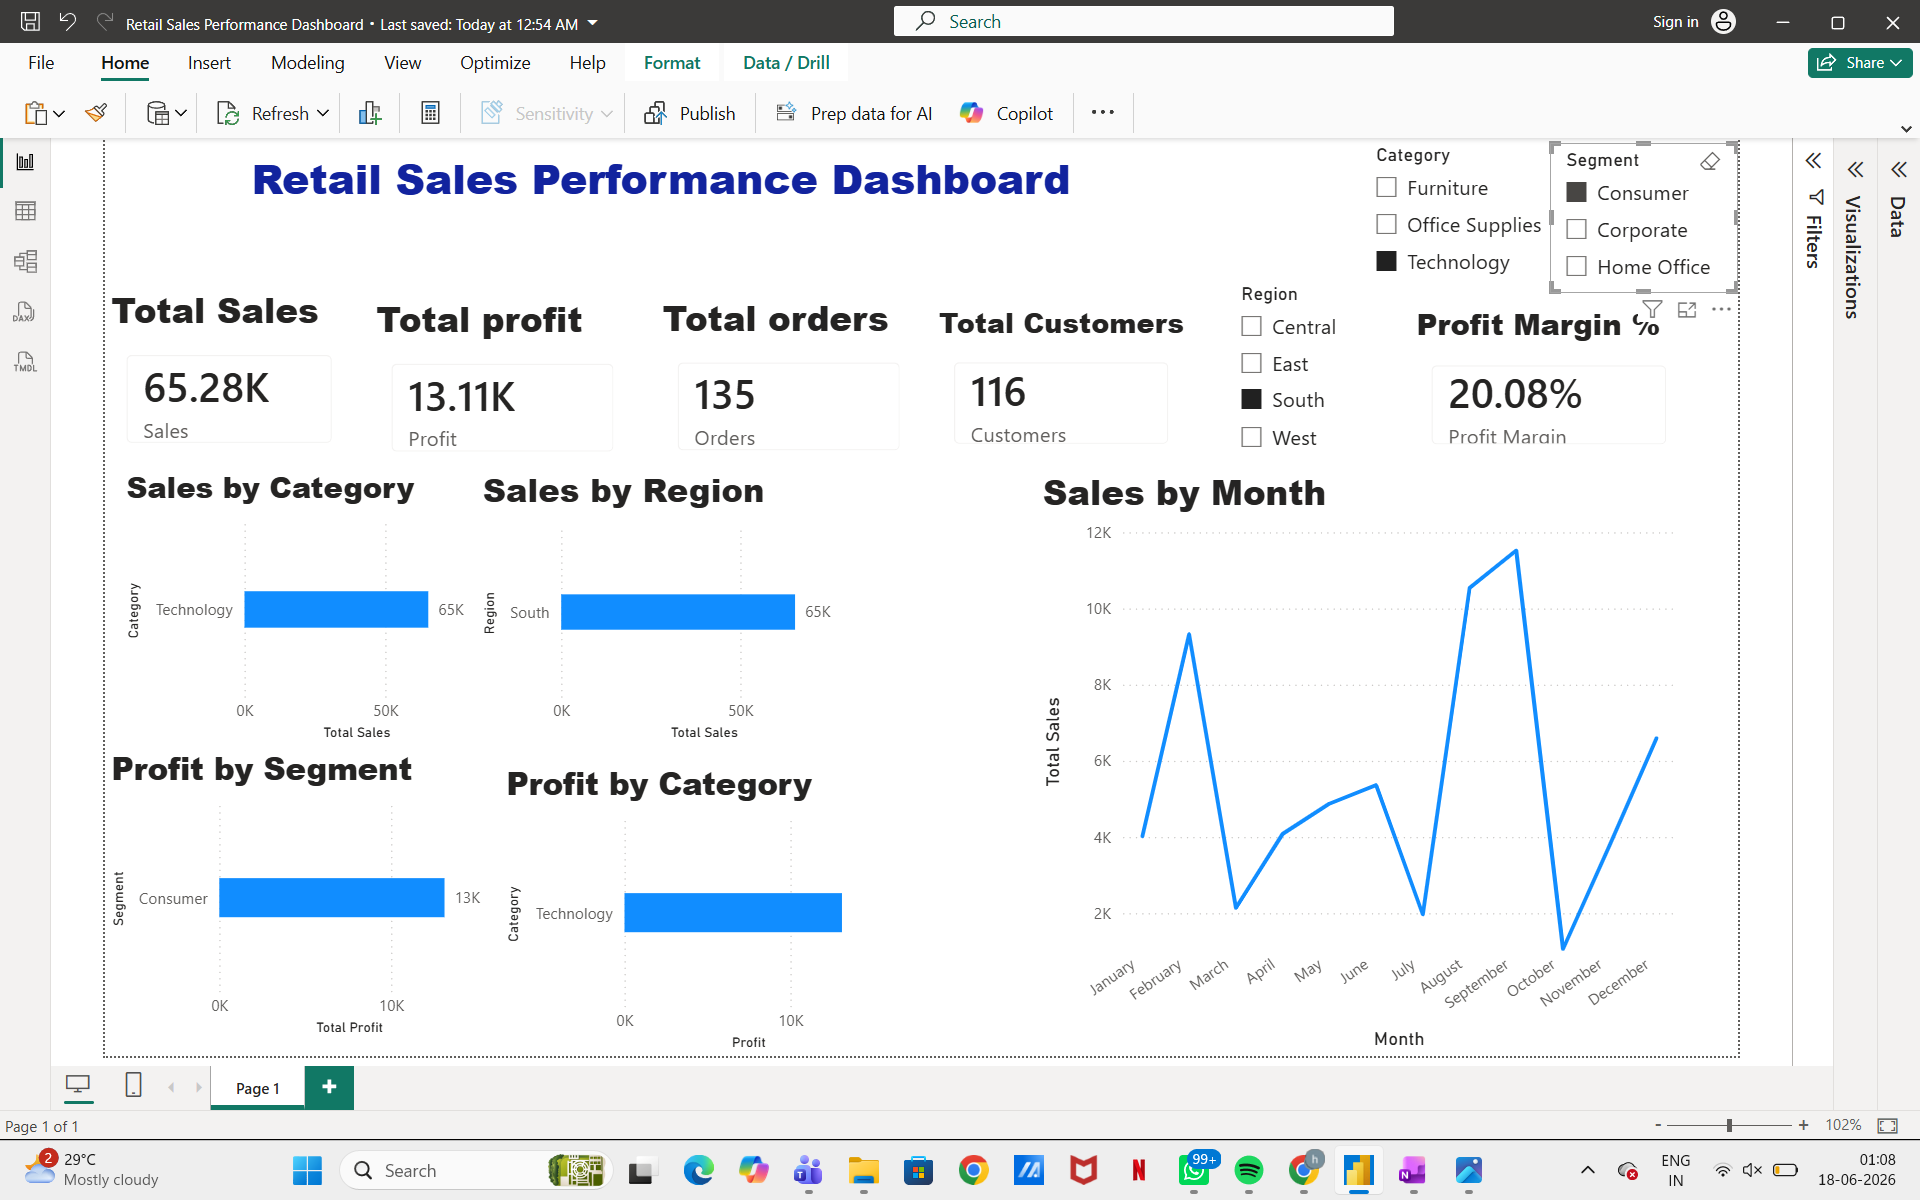

The dashboard page shown, as its layout file describes it:
{"tool":"powerbi","page":{"name":"Page 1","canvas":[1280,720],"ordinal":0},"visuals":[{"type":"cardVisual","title":"Total Sales","fields":{"Data":["Sum(Clean_Sales.Sales)"]},"box":[0,115.5,195.3,141.1],"z":0},{"type":"cardVisual","title":"Total profit","fields":{"Data":["Sum(Clean_Sales.Profit)"]},"box":[208.1,122.6,208.1,141.1],"z":1000},{"type":"cardVisual","title":"Total orders","fields":{"Data":["Clean_Sales.Total Orders"]},"box":[431.9,121.2,208.1,141.1],"z":2000},{"type":"cardVisual","title":"Total Customers","fields":{"Data":["Clean_Sales.total customers"]},"box":[648.6,129.7,202.4,128.3],"z":3000},{"type":"cardVisual","title":"Profit Margin %","fields":{"Data":["Clean_Sales.Profit Margin"]},"box":[1023.4,129.7,218.1,128.3],"z":4000},{"type":"clusteredBarChart","title":" Sales by Category","fields":{"Category":["Clean_Sales.Category"],"Y":["Sum(Clean_Sales.Sales)"]},"box":[11.4,258,289.4,219.5],"z":5000},{"type":"clusteredBarChart","title":"Profit by Category","fields":{"Category":["Clean_Sales.Category"],"Y":["Sum(Clean_Sales.Profit)"]},"box":[309.3,488.9,307.9,230.9],"z":6000},{"type":"clusteredBarChart","title":"Sales by Region","fields":{"Category":["Clean_Sales.Region"],"Y":["Sum(Clean_Sales.Sales)"]},"box":[290.8,258,306.5,219.5],"z":7000},{"type":"lineChart","title":" Sales by Month","fields":{"Y":["Sum(Clean_Sales.Sales)"],"Category":["Clean_Sales.Order_Date.Variation.Date Hierarchy.Month"]},"box":[729.8,258,506,461.8],"z":8000},{"type":"clusteredBarChart","title":"Profit by Segment","fields":{"Category":["Clean_Sales.Segment"],"Y":["Sum(Clean_Sales.Profit)"]},"box":[0,477.5,309.3,230.9],"z":9000},{"type":"slicer","fields":{"Values":["Clean_Sales.Region"]},"box":[878,108.3,106.9,149.7],"z":10000},{"type":"slicer","fields":{"Values":["Clean_Sales.Category"]},"box":[983.5,0,149.7,116.9],"z":11000},{"type":"slicer","fields":{"Values":["Clean_Sales.Segment"]},"box":[1133.2,4.3,146.8,116.9],"z":12000},{"type":"textbox","box":[109.8,4.3,822.4,79.8],"z":13000}]}

Visuals, with their boxes on the page's 1280x720 design canvas (x1, y1, x2, y2). These are canvas units, not pixel positions in the 1920x1200 screenshot, which may show the page scaled, cropped or inside an application window:
"Total Sales" cardVisual: box(0, 116, 195, 257)
"Total profit" cardVisual: box(208, 123, 416, 264)
"Total orders" cardVisual: box(432, 121, 640, 262)
"Total Customers" cardVisual: box(649, 130, 851, 258)
"Profit Margin %" cardVisual: box(1023, 130, 1242, 258)
" Sales by Category" clusteredBarChart: box(11, 258, 301, 478)
"Profit by Category" clusteredBarChart: box(309, 489, 617, 720)
"Sales by Region" clusteredBarChart: box(291, 258, 597, 478)
" Sales by Month" lineChart: box(730, 258, 1236, 720)
"Profit by Segment" clusteredBarChart: box(0, 478, 309, 708)
slicer - Clean_Sales.Region: box(878, 108, 985, 258)
slicer - Clean_Sales.Category: box(984, 0, 1133, 117)
slicer - Clean_Sales.Segment: box(1133, 4, 1280, 121)
textbox: box(110, 4, 932, 84)
